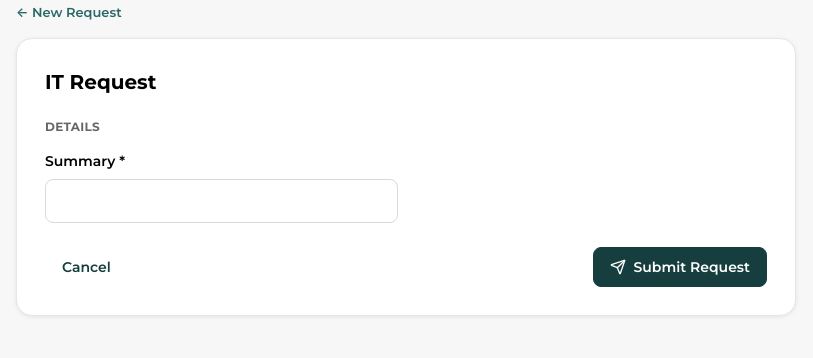
Test: blocks submit with a validation error when a required field is empty
expect the text "IT Request" is shown: met, box [45,70,156,94]
Click the button "Submit Request" at coordinates (680, 267), box [592,247,767,287]
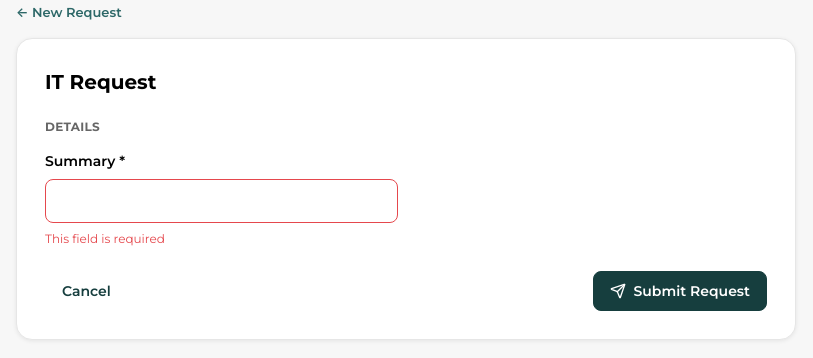
expect the text "This field is required" is shown: met, box [45,231,165,246]
